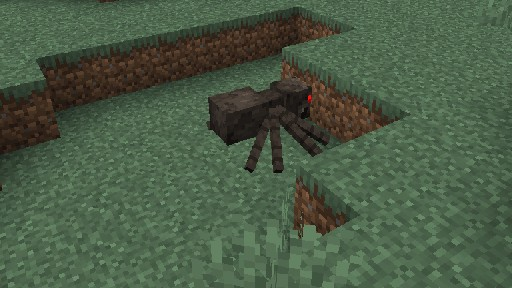spider: (205, 75, 330, 173)
